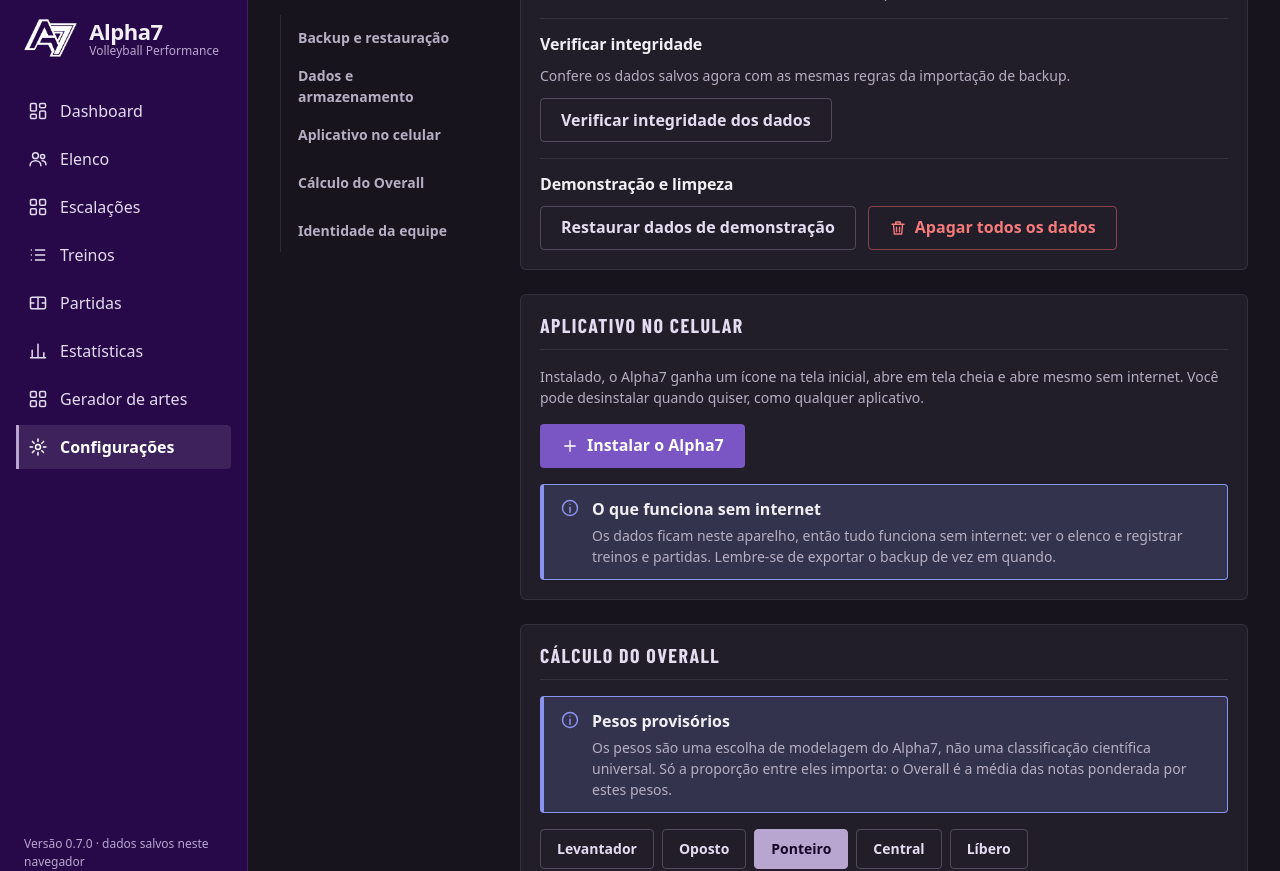
it: Configurações: aplicativo no celular › com o pedido disponível, mostra o botão e abre o pedido do navegador ao clicar
(page scrolled)
Expected: the heading "Aplicativo no celular" is shown, [540,314,744,337]
Click the button "Instalar o Alpha7" at {"x": 642, "y": 446}, box [540,424,745,468]
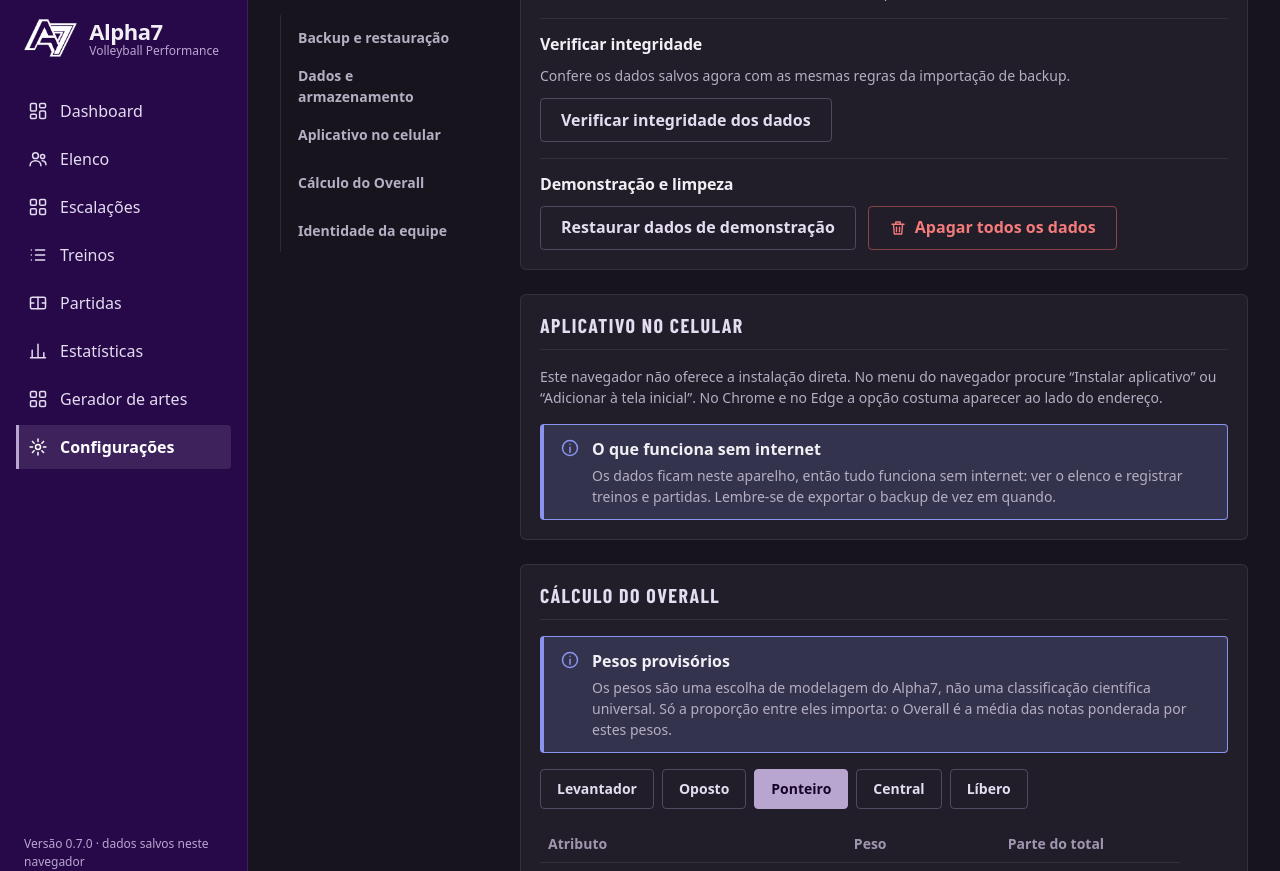
Expected: the button "Instalar o Alpha7" is gone
